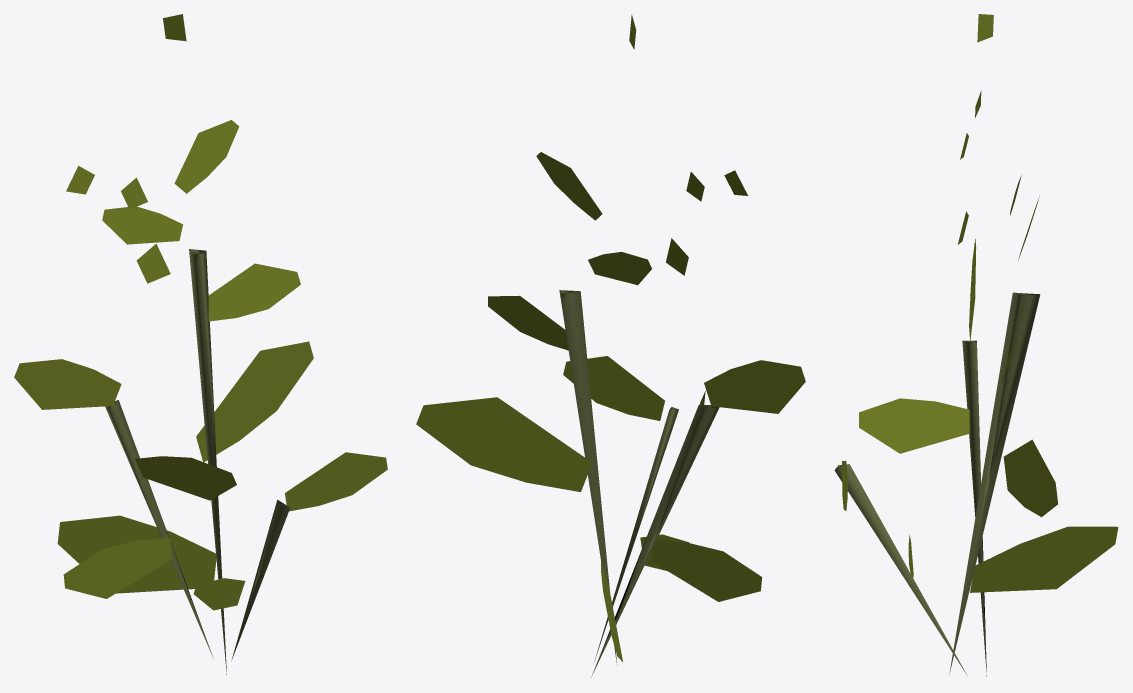
Rendered from Plant_LP.fbx.
3 views of the same model, side by side, from view 1: azimuth 30°, elevation 25°; view 2: azimuth 150°, elevation 25°; view 3: azimuth 270°, elevation 25° (orthographic). The views are drawn at different scales.
Parts seen in each view (by area): view 1: Plant; view 2: Plant; view 3: Plant.
Part boxes in pixels (x1,y1,x2,y2): Plant: (14,14,387,675); Plant: (416,14,805,677); Plant: (834,14,1118,676).
Size of the model in its own units: 4.58 by 8.47 by 3.36.
